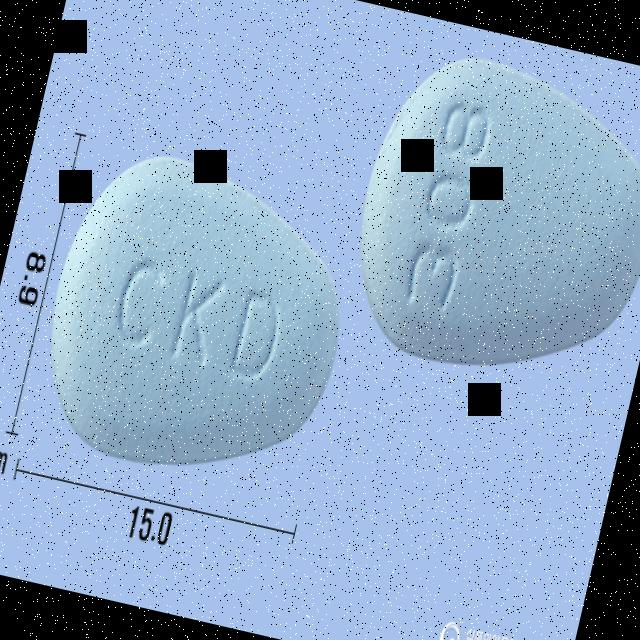Tenofobell Tab: (21, 132, 372, 502), (333, 32, 640, 403)
